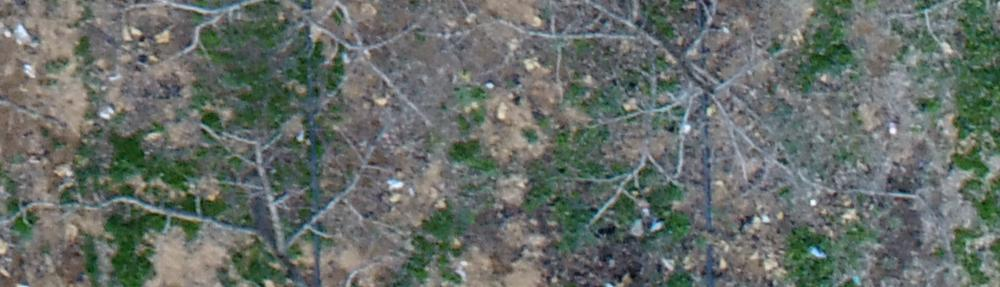apple: (463, 10, 868, 251), (46, 86, 414, 272)
